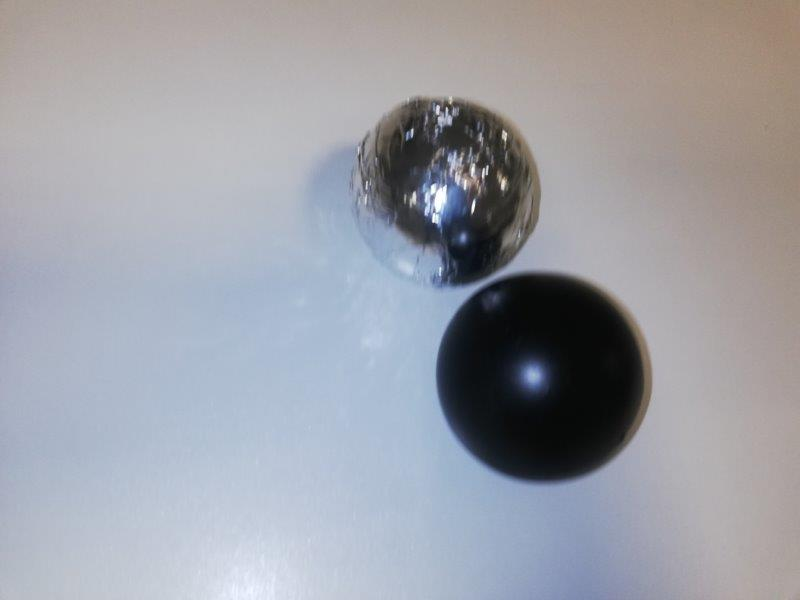bianca: (348, 94, 537, 287)
nera: (433, 269, 648, 485)
